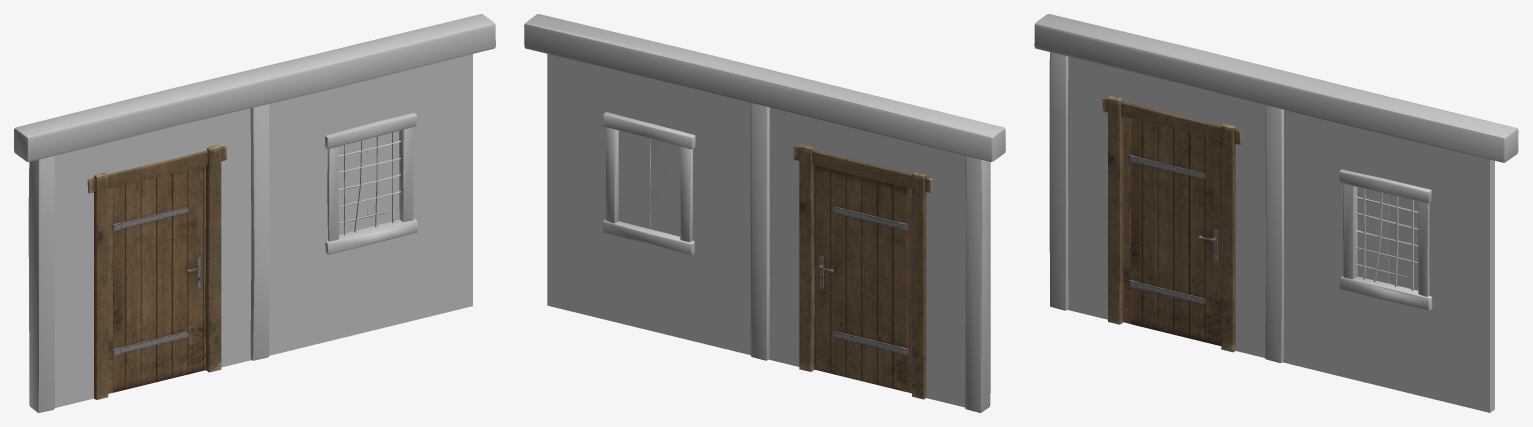
Rendered from SM_WallElement_08_LOD_01.FBX.
3 renders of one model, left to right at view 1: azimuth 30°, elevation 25°; view 2: azimuth 150°, elevation 25°; view 3: azimuth 330°, elevation 25°, orthographic.
Visible parts, largest first — view 1: SM_WallElement_08_LOD_01, SM_Door_01_LOD_01, SM_Window_Shutter_Right_LOD_01, SM_Window_Shutter_Left_LOD_01; view 2: SM_WallElement_08_LOD_01, SM_Door_01_LOD_01, SM_Window_Shutter_Right_LOD_01, SM_Window_Shutter_Left_LOD_01; view 3: SM_WallElement_08_LOD_01, SM_Door_01_LOD_01, SM_Window_Shutter_Left_LOD_01, SM_Window_Shutter_Right_LOD_01.
Boxes of the visible parts, box(x1,y1,x2,y2) form: SM_WallElement_08_LOD_01: box(14, 14, 495, 412); SM_Door_01_LOD_01: box(112, 165, 205, 392); SM_Window_Shutter_Right_LOD_01: box(367, 131, 399, 227); SM_Window_Shutter_Left_LOD_01: box(338, 139, 367, 234); SM_WallElement_08_LOD_01: box(524, 14, 1005, 412); SM_Door_01_LOD_01: box(814, 165, 908, 391); SM_Window_Shutter_Right_LOD_01: box(618, 130, 650, 229); SM_Window_Shutter_Left_LOD_01: box(650, 138, 680, 236); SM_WallElement_08_LOD_01: box(1034, 14, 1518, 412); SM_Door_01_LOD_01: box(1129, 118, 1221, 345); SM_Window_Shutter_Left_LOD_01: box(1357, 187, 1390, 283); SM_Window_Shutter_Right_LOD_01: box(1389, 194, 1418, 290).
Size of the model in its own units: 5.47 by 3.16 by 0.3119.
